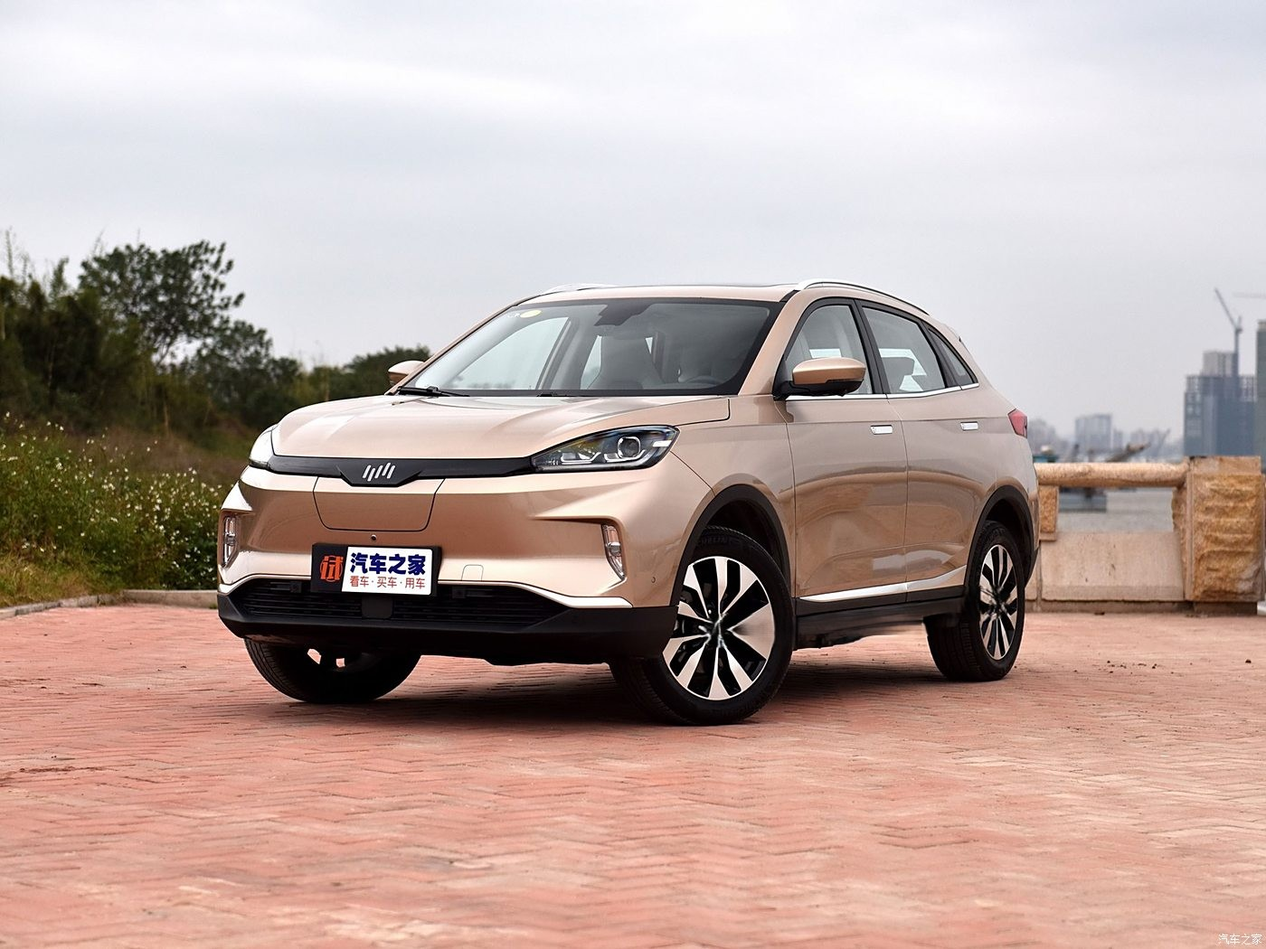WELTMEISTER: (363, 463, 395, 481)
